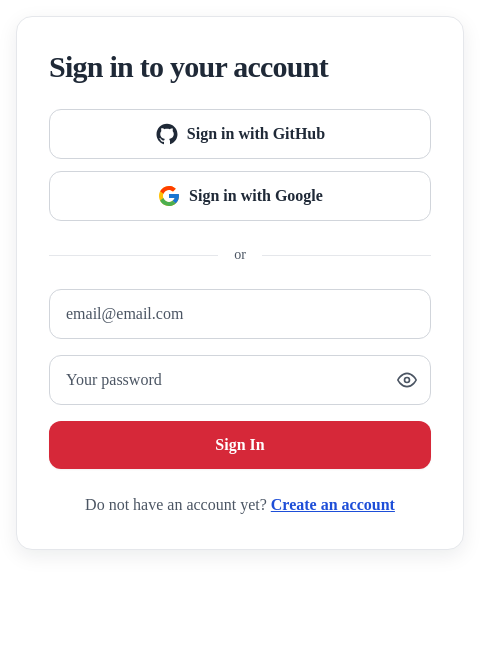
Test: Auth page › switches to the sign up form with a confirmation field and two toggles
Click the button "Create an account" at (333, 505), box left=271, top=493, right=395, bottom=517
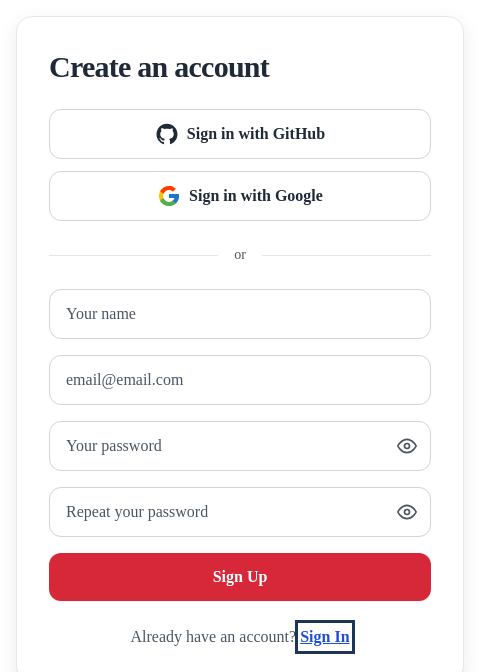
Expected: the heading "Create an account" is shown, left=49, top=50, right=269, bottom=83
Expected: the field labelled "name" is shown, left=49, top=289, right=431, bottom=339
Expected: the password field named "Confirm password" is shown, left=49, top=487, right=431, bottom=537
